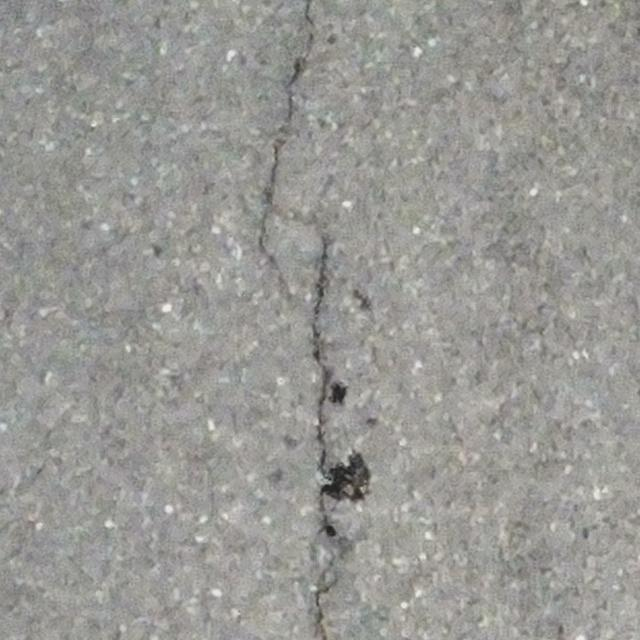LongitudinalCrack: (310, 235, 377, 640), (257, 1, 318, 293)
